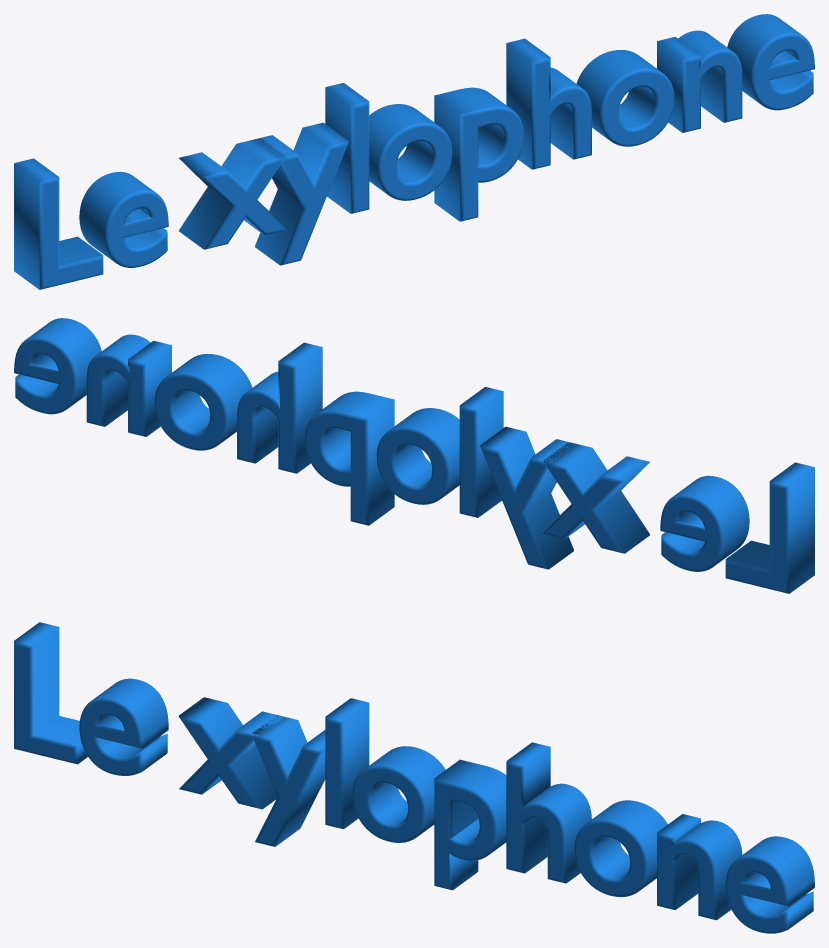
3 views of the same model, one above another, from view 1: azimuth 30°, elevation 25°; view 2: azimuth 150°, elevation 25°; view 3: azimuth 330°, elevation 25° (orthographic).
Parts seen in each view (by area): view 1: Text; view 2: Text; view 3: Text.
Boxes of the visible parts, <box> form: Text: <box>14,14,814,289</box>; Text: <box>14,318,814,593</box>; Text: <box>14,622,814,933</box>.
Size of the model in its own units: 5.42 by 0.952 by 0.34.
